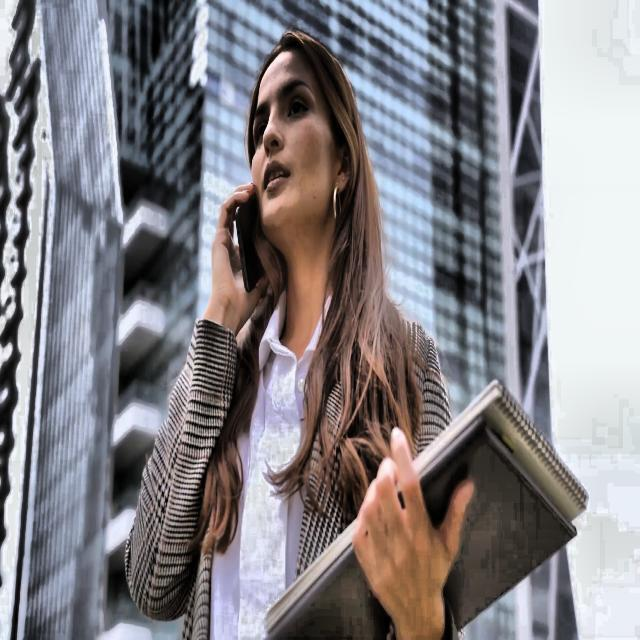Phone: (234, 186, 266, 299)
